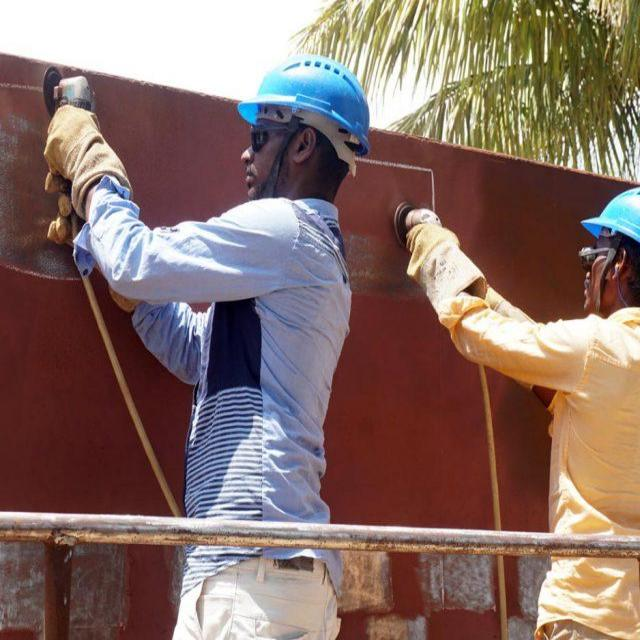Safety-Helmet: (233, 46, 380, 152), (574, 179, 640, 268)
